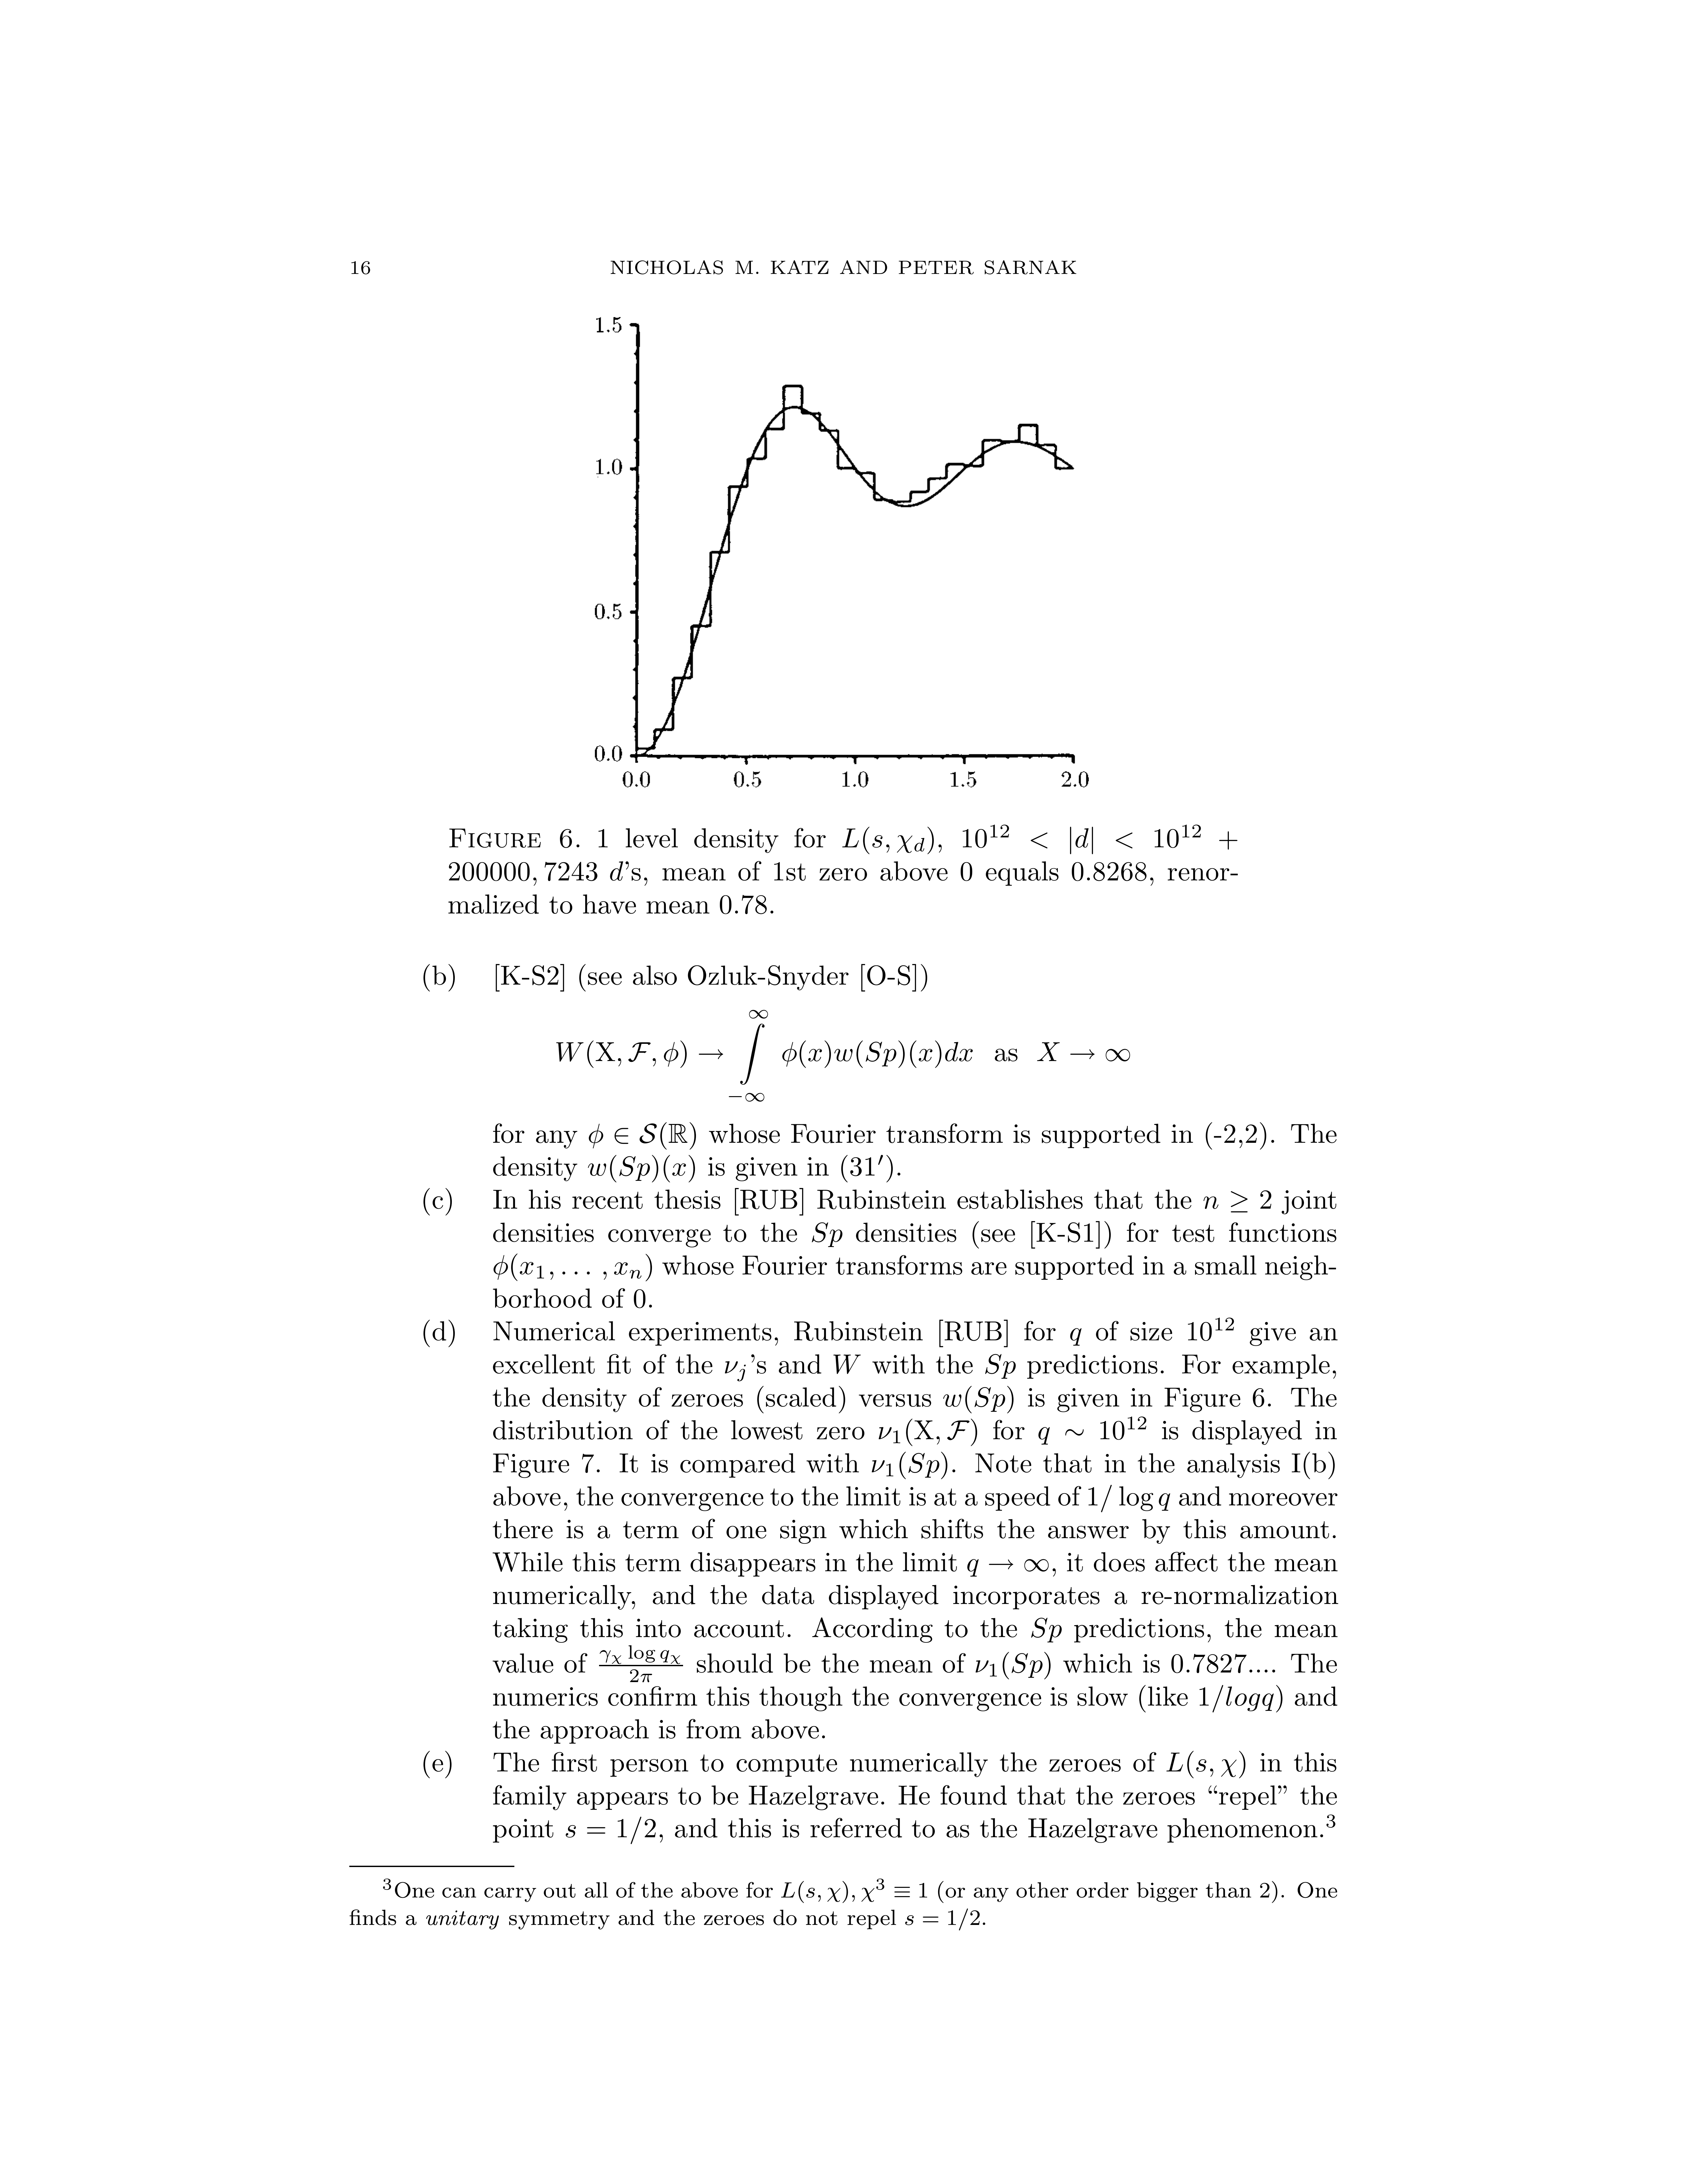maths: (556, 1010, 973, 1101), (494, 1253, 652, 1282), (599, 1645, 682, 1682), (1038, 1416, 1147, 1445), (1116, 824, 1237, 849), (588, 1122, 696, 1149), (588, 1156, 695, 1182), (842, 826, 941, 854), (879, 1418, 976, 1447), (565, 1817, 656, 1844), (1200, 1686, 1283, 1712), (1088, 1486, 1170, 1512), (1166, 1751, 1246, 1778), (872, 1452, 946, 1478), (976, 1652, 1051, 1679), (962, 824, 1047, 847), (943, 1386, 1014, 1413), (1037, 1042, 1129, 1062), (1205, 1122, 1265, 1149), (906, 1909, 980, 1930), (781, 1881, 854, 1902), (861, 1879, 927, 1902), (1072, 862, 1147, 881), (968, 1558, 1049, 1576), (1203, 1191, 1271, 1213), (1187, 1317, 1233, 1340), (719, 895, 767, 913), (985, 1354, 1015, 1379), (812, 1223, 842, 1246), (1031, 1618, 1061, 1642), (1070, 826, 1093, 854), (833, 1354, 861, 1374), (725, 1361, 746, 1381), (610, 862, 622, 881), (960, 862, 971, 881), (634, 1289, 645, 1308), (1070, 1328, 1081, 1346), (1139, 1686, 1145, 1712)
